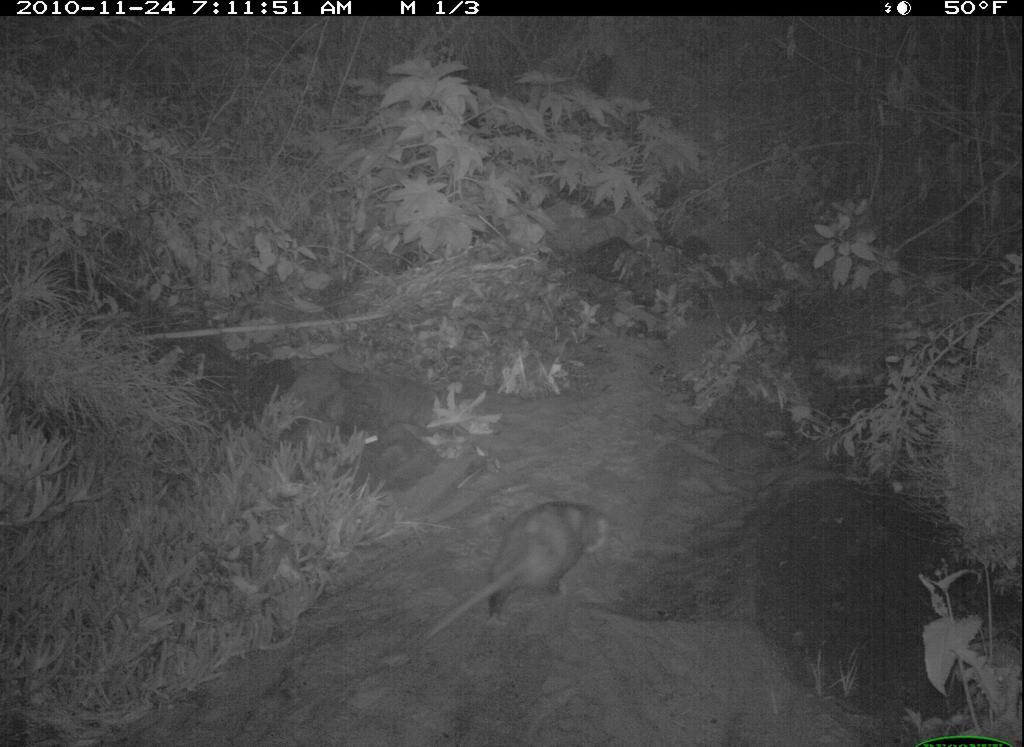opossum: (423, 487, 638, 657)
